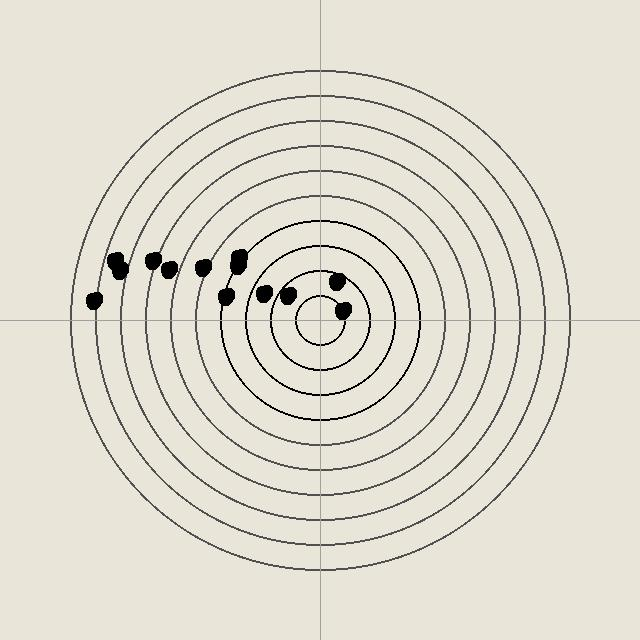horizontal_scatter: (326, 271, 346, 291), (227, 255, 247, 275), (83, 290, 103, 310), (192, 257, 212, 277), (215, 286, 235, 306), (109, 260, 129, 280), (142, 250, 162, 270), (104, 250, 124, 270), (228, 247, 248, 267), (277, 285, 297, 305), (158, 259, 178, 279), (253, 283, 273, 303), (332, 300, 352, 320)
